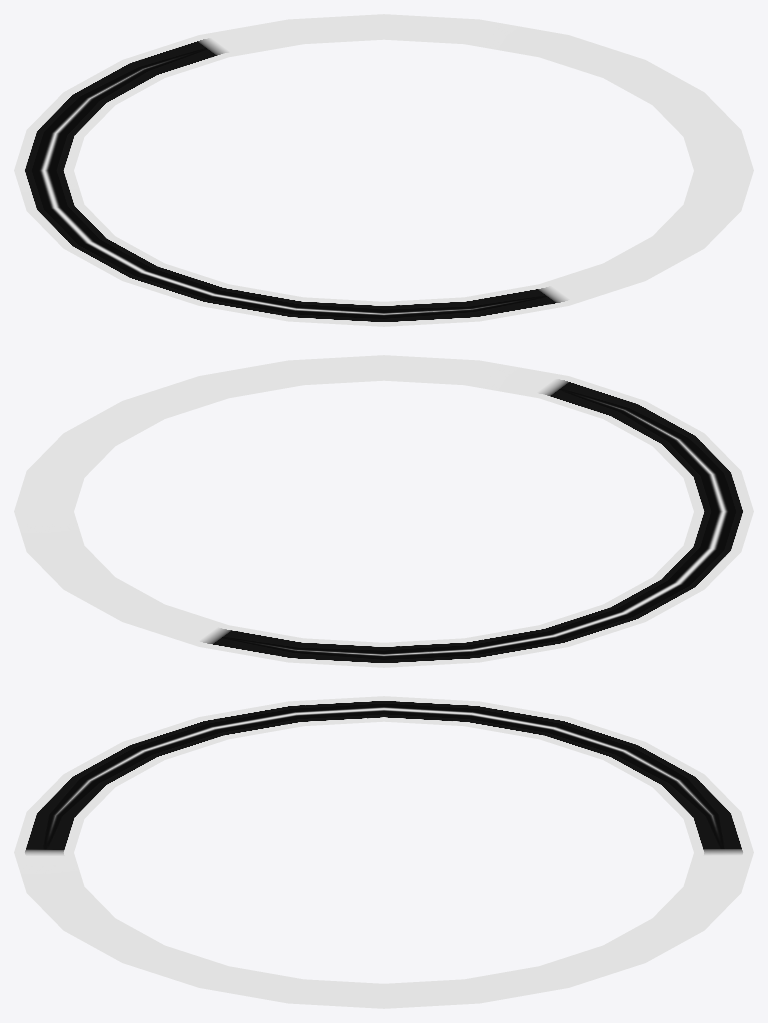
Rendered from Yuan.FBX.
3 views of the same model, one above another, from view 1: azimuth 30°, elevation 25°; view 2: azimuth 150°, elevation 25°; view 3: azimuth 270°, elevation 25° (orthographic).
Visible parts, largest first — view 1: Cylinder001; view 2: Cylinder001; view 3: Cylinder001.
Part boxes in pixels (left/top/right/bottom): Cylinder001: left=14, top=14, right=753, bottom=326; Cylinder001: left=14, top=355, right=753, bottom=667; Cylinder001: left=14, top=696, right=753, bottom=1008.
Size of the model in its own units: 64.35 by 0.0266 by 64.35.
